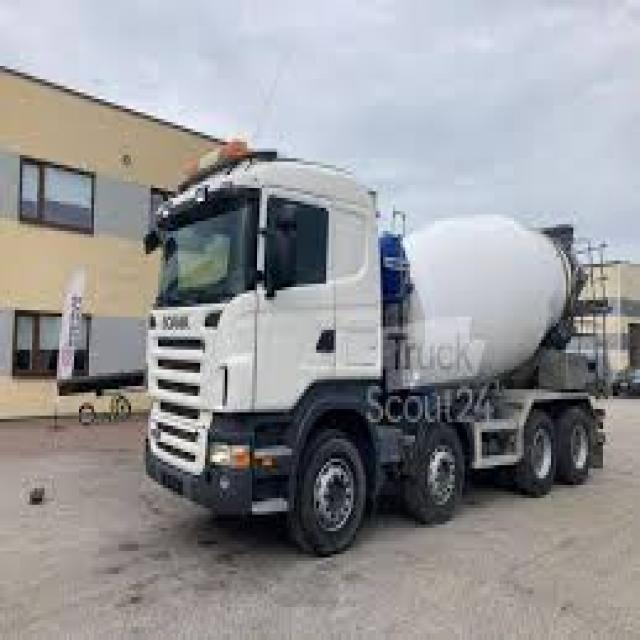Mixer Truck: (140, 139, 614, 559)
